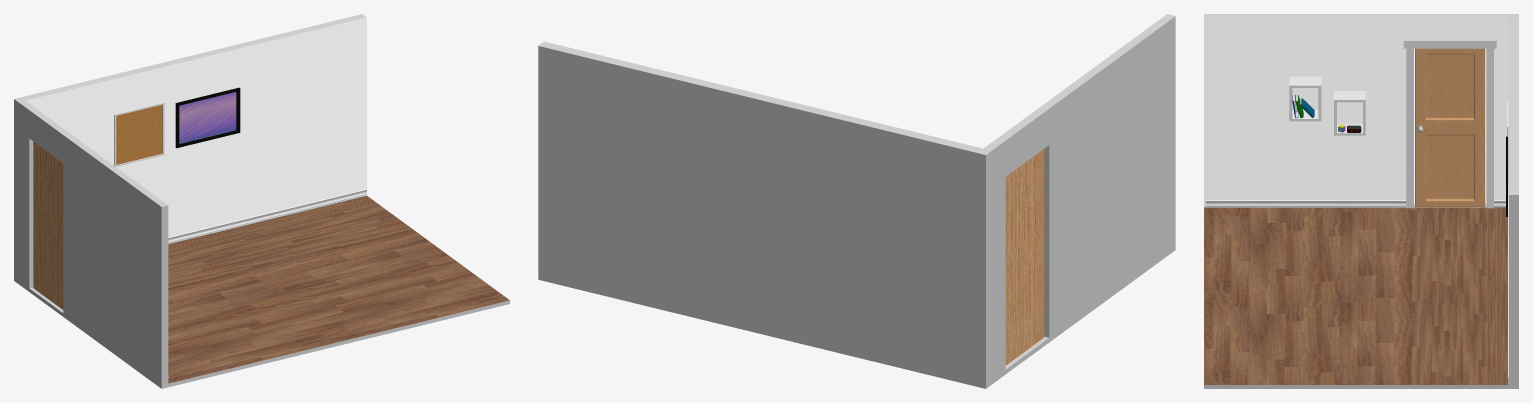
The model's file is defaultRoom.glb.
The picture shows the model from 3 angles, left to right: view 1: azimuth 30°, elevation 25°; view 2: azimuth 150°, elevation 25°; view 3: azimuth 270°, elevation 25°; orthographic projection. The views are drawn at different scales.
Parts seen in each view (by area): view 1: Cube, Plane, Plane.002, Plane.003, Plane.001; view 2: Cube, Plane; view 3: Cube, Plane, Plane.001, Cube.001.
Part boxes in pixels (x1,y1,x2,y2): Cube: (14, 14, 509, 388); Plane: (33, 141, 63, 309); Plane.002: (175, 87, 240, 148); Plane.003: (114, 102, 164, 166); Plane.001: (168, 189, 366, 377); Cube: (538, 14, 1175, 388); Plane: (1005, 149, 1044, 365); Cube: (1204, 14, 1518, 388); Plane: (1415, 48, 1485, 206); Plane.001: (1205, 200, 1508, 384); Cube.001: (1289, 76, 1365, 135).
Size of the model in its own units: 196 by 97.84 by 144.
Materials: 23 (5 with a texture image).
